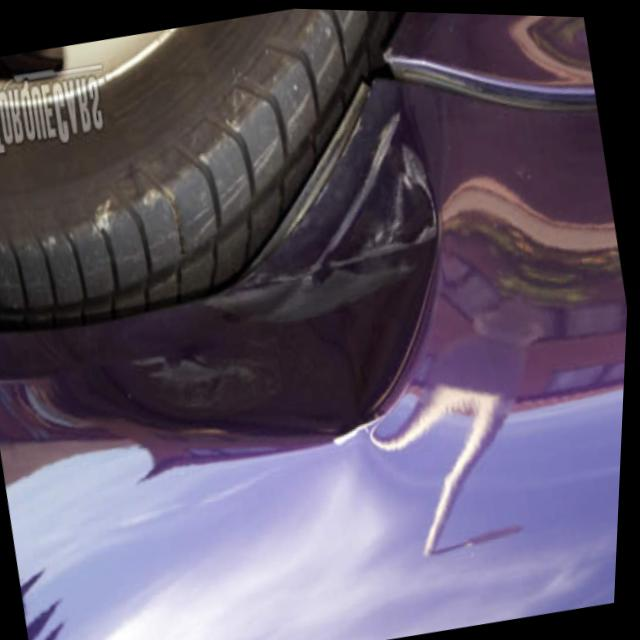Dent: (16, 236, 470, 544)
